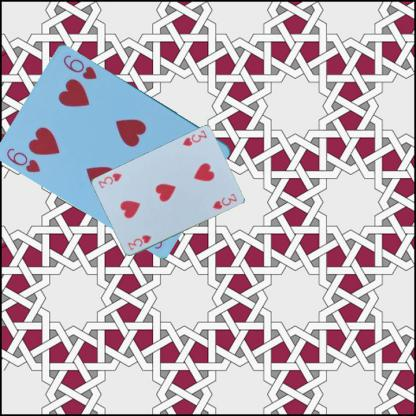3h: (180, 128, 208, 147), (125, 233, 152, 252)
6h: (4, 145, 42, 174)
